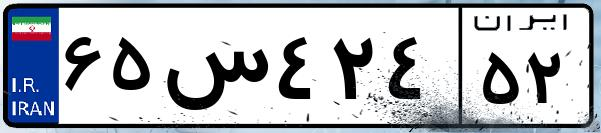2: (330, 28, 385, 110), (525, 38, 570, 115)
4: (270, 28, 330, 110), (385, 28, 445, 110)
5: (475, 38, 525, 113), (110, 28, 158, 98)
6: (57, 26, 110, 100)
س: (158, 20, 270, 120)
